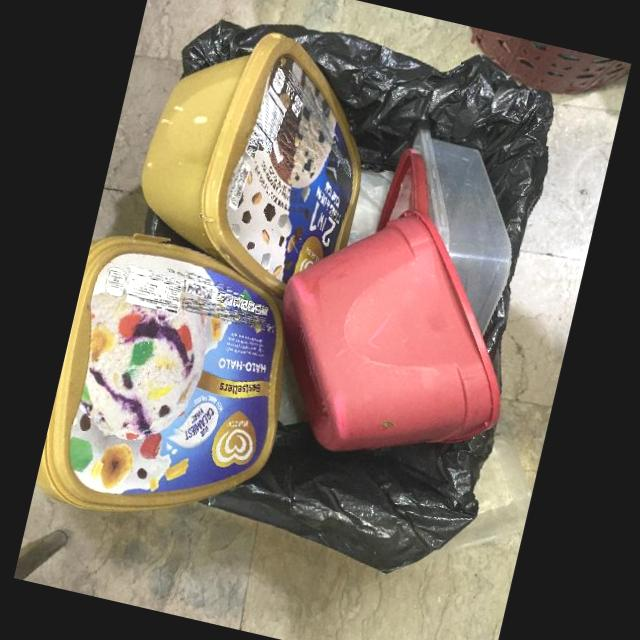hop_nhua: (35, 232, 285, 510), (141, 31, 361, 303), (281, 207, 500, 450), (413, 127, 512, 334)
